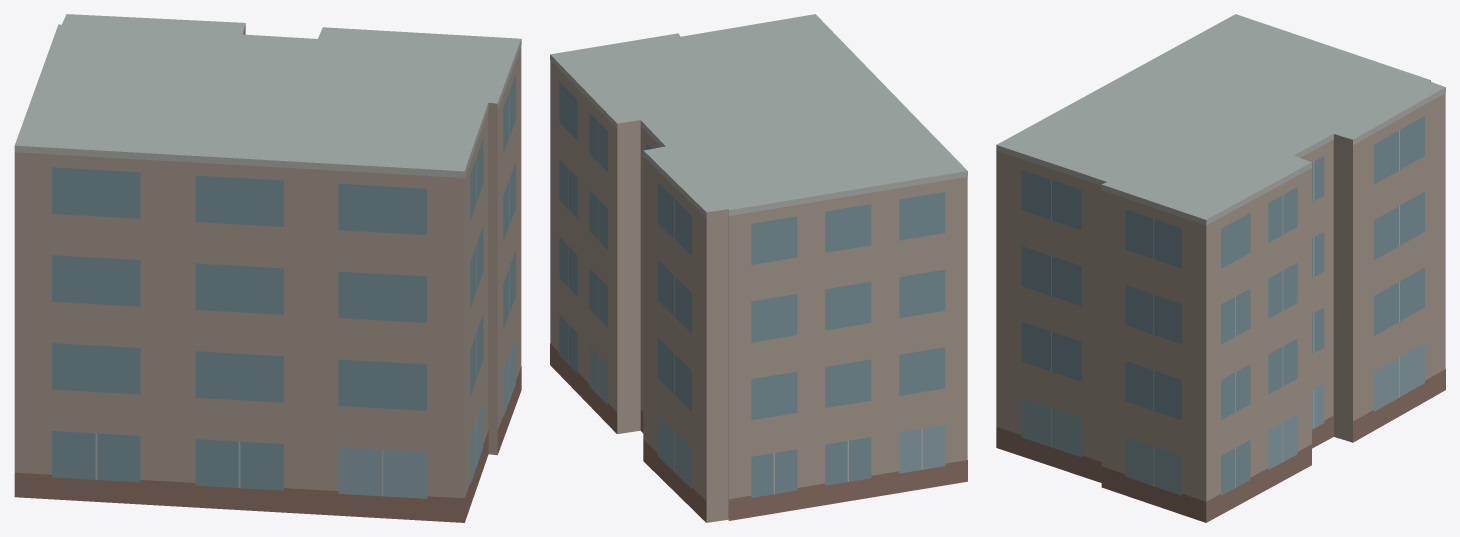
The model's file is survey-upis-32810741.glb.
3 views of the same model, side by side, from view 1: azimuth 30°, elevation 25°; view 2: azimuth 150°, elevation 25°; view 3: azimuth 270°, elevation 25° (orthographic). The views are drawn at different scales.
Visible parts, largest first — view 1: survey-upis-32810741.tmp; view 2: survey-upis-32810741.tmp; view 3: survey-upis-32810741.tmp.
Part boxes in pixels (left/top/right/bottom): survey-upis-32810741.tmp: left=14, top=14, right=521, bottom=522; survey-upis-32810741.tmp: left=550, top=14, right=967, bottom=522; survey-upis-32810741.tmp: left=996, top=14, right=1445, bottom=522.
Bounding box in the file's own units: 18.96 × 13 × 17.49.
